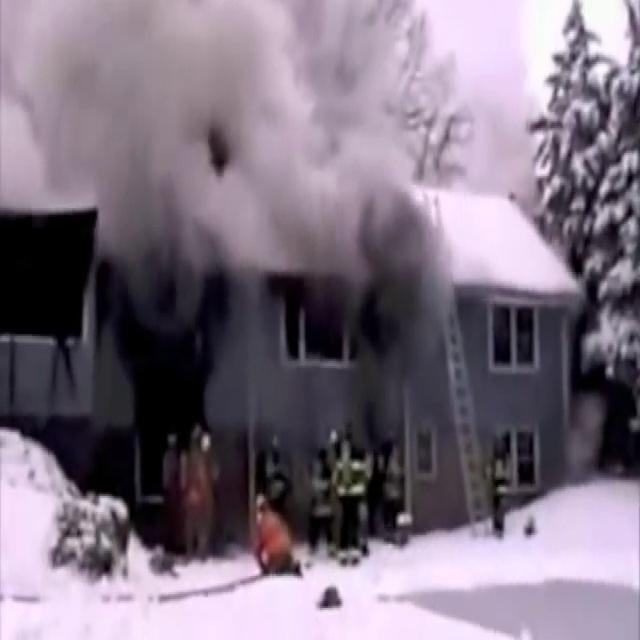Smoke: (3, 0, 555, 482)
